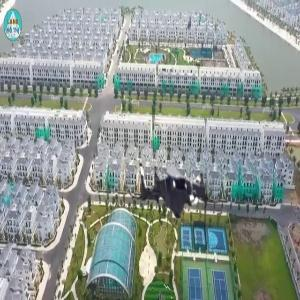drone: (124, 140, 228, 244)
